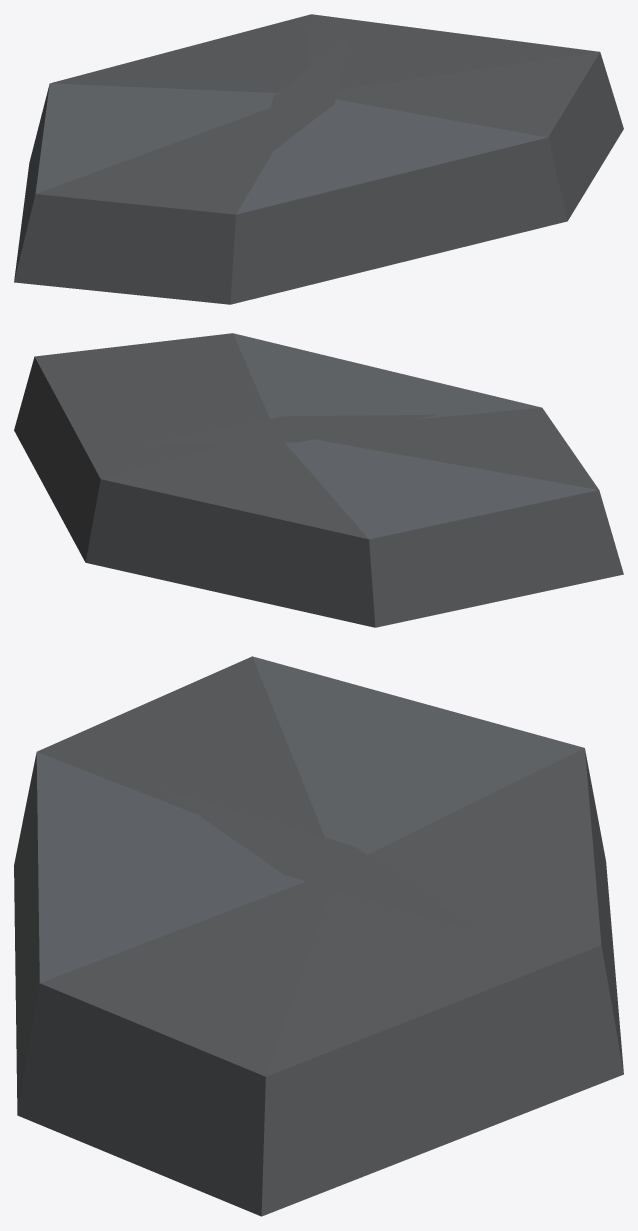
File: SM_Arena_Slab_A.fbx
3 renders of one model, top to bottom at view 1: azimuth 30°, elevation 25°; view 2: azimuth 150°, elevation 25°; view 3: azimuth 270°, elevation 25°, orthographic. The views are drawn at different scales.
Parts seen in each view (by area): view 1: SM_Arena_Slab_A; view 2: SM_Arena_Slab_A; view 3: SM_Arena_Slab_A.
Boxes of the visible parts, x1=… form: SM_Arena_Slab_A: x1=14, y1=14, x2=623, y2=304; SM_Arena_Slab_A: x1=14, y1=333, x2=623, y2=627; SM_Arena_Slab_A: x1=14, y1=656, x2=623, y2=1216.
Bounding box in the file's own units: 1.11 × 0.152 × 0.6277.
